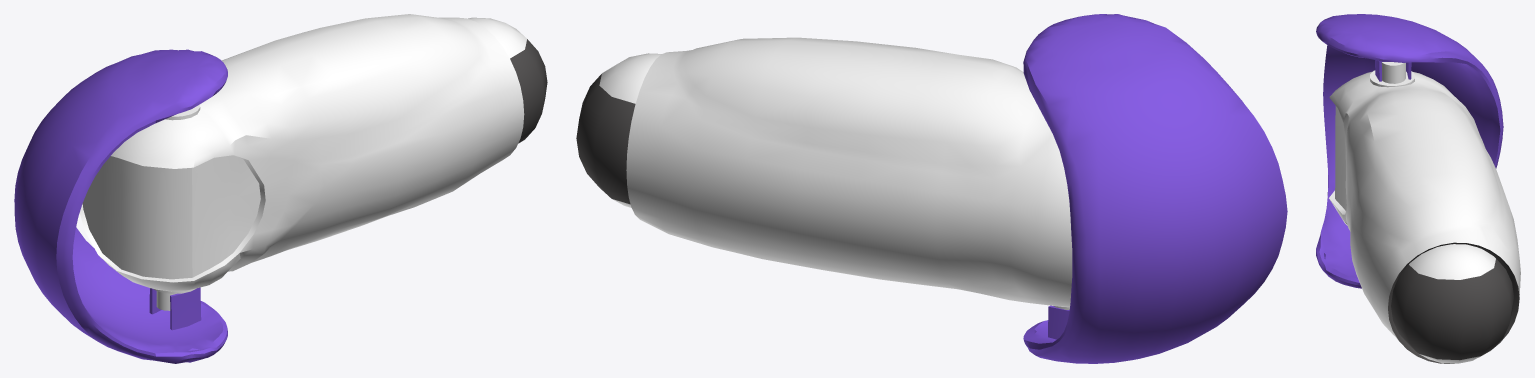
The model's file is LShoulderRoll.dae.
3 renders of one model, left to right at view 1: azimuth 30°, elevation 25°; view 2: azimuth 150°, elevation 25°; view 3: azimuth 270°, elevation 25°, orthographic. The views are drawn at different scales.
Parts seen in each view (by area): view 1: LShoulderRoll; view 2: LShoulderRoll; view 3: LShoulderRoll.
Boxes of the visible parts, left/top/right/bottom form: LShoulderRoll: left=14, top=14, right=547, bottom=363; LShoulderRoll: left=576, top=14, right=1287, bottom=363; LShoulderRoll: left=1316, top=14, right=1520, bottom=363.
Bounding box in the file's own units: 1.69 × 0.6127 × 0.8169.
Materials: 1 (1 with a texture image).
